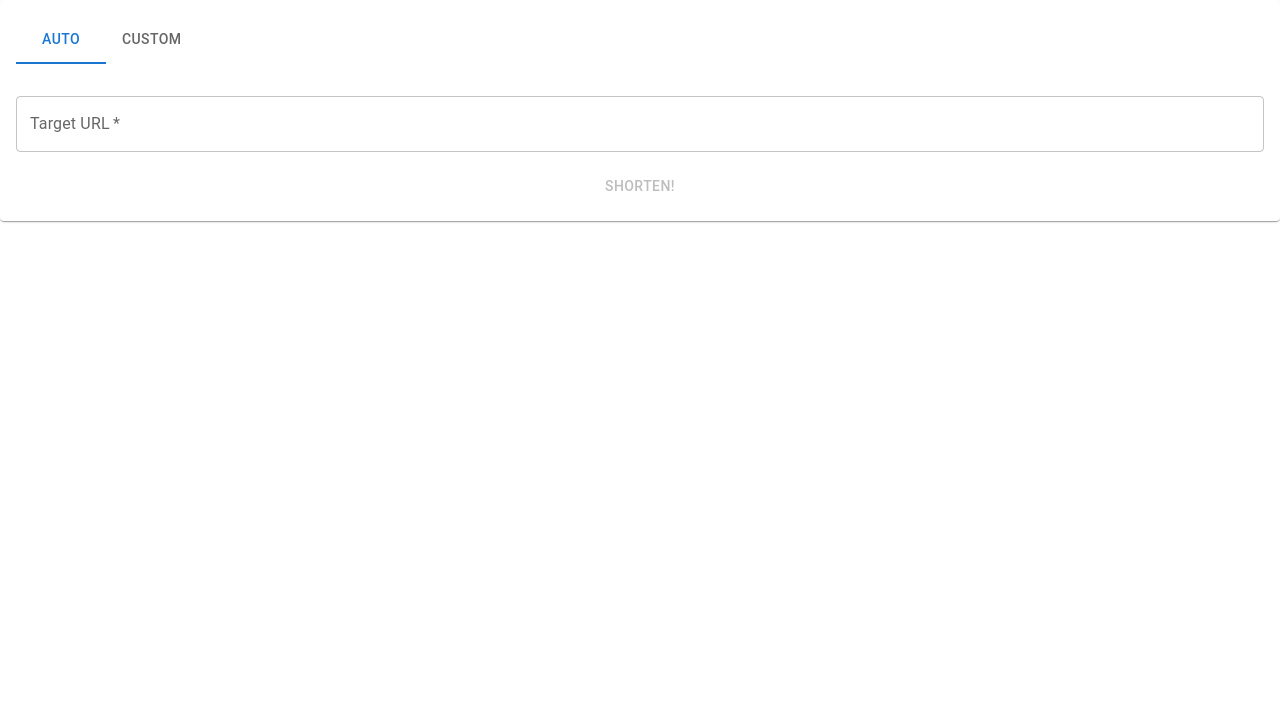
show success dialog with shortened url when button is pressed
The width and height of the screenshot is (1280, 720).
Step 1. Type "www.example.com" into the field with test id "url-input" → (640, 124), box [16,96,1264,152]
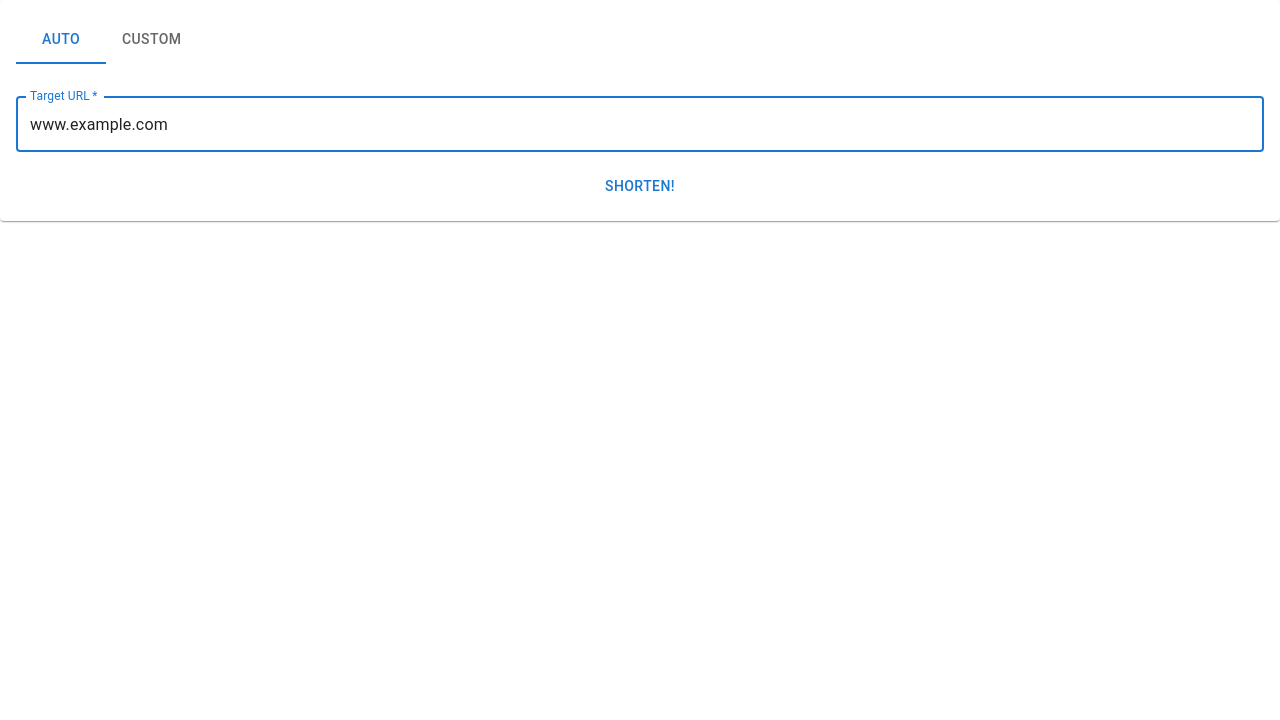
Step 2. Click the button with test id "shorten-button-input" → (640, 186), box [16,168,1264,204]
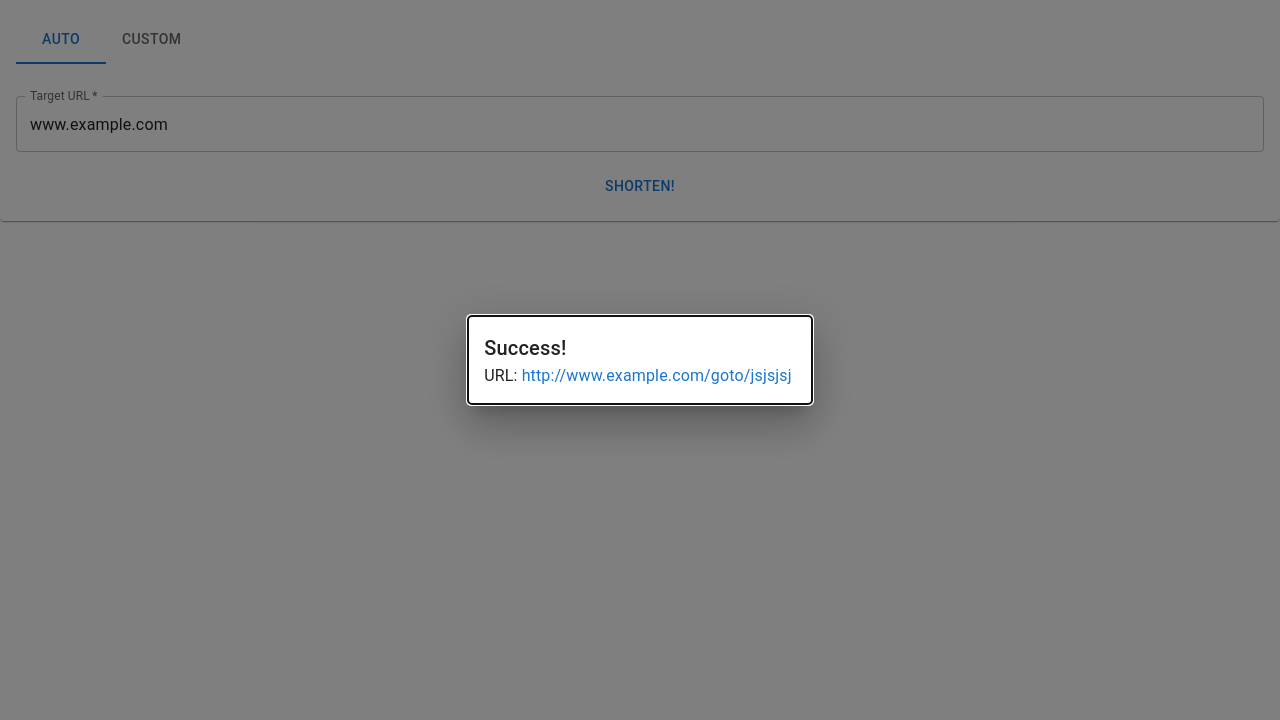
Expected: the element with test id "success-dialog" is shown
